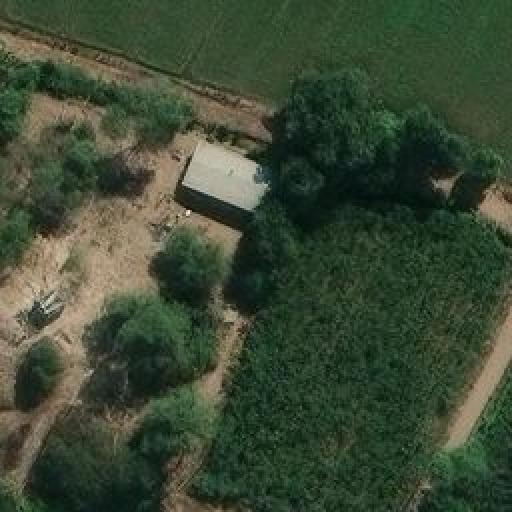manzanas: (167, 133, 279, 235)
